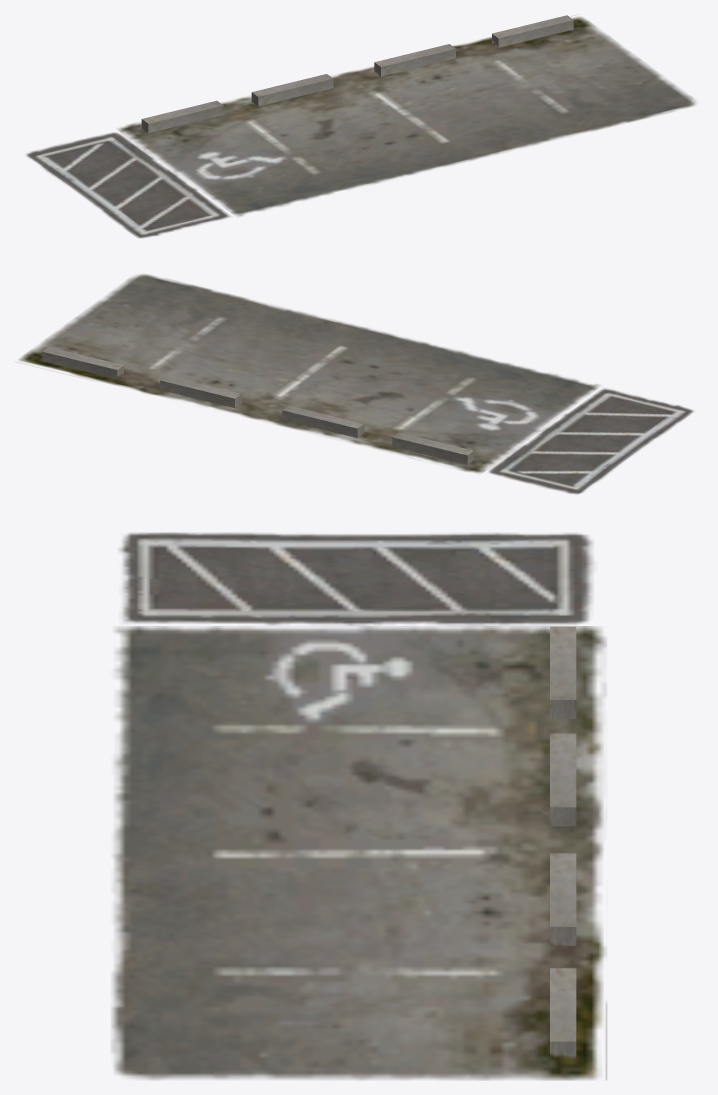
Rendered from Environment - Prop - N Parking - PMNParking.glb.
The picture shows the model from 3 angles, top to bottom: view 1: azimuth 30°, elevation 25°; view 2: azimuth 150°, elevation 25°; view 3: azimuth 270°, elevation 25°; orthographic projection. The views are drawn at different scales.
Visible parts, largest first — view 1: PMNPARKING; view 2: PMNPARKING; view 3: PMNPARKING.
Part boxes in pixels (x1,y1,x2,y2): PMNPARKING: [26, 14, 695, 238]; PMNPARKING: [19, 274, 693, 494]; PMNPARKING: [111, 532, 606, 1080].
Bounding box in the file's own units: 69.78 × 1.14 × 26.54.
Materials: 1 (1 with a texture image).
